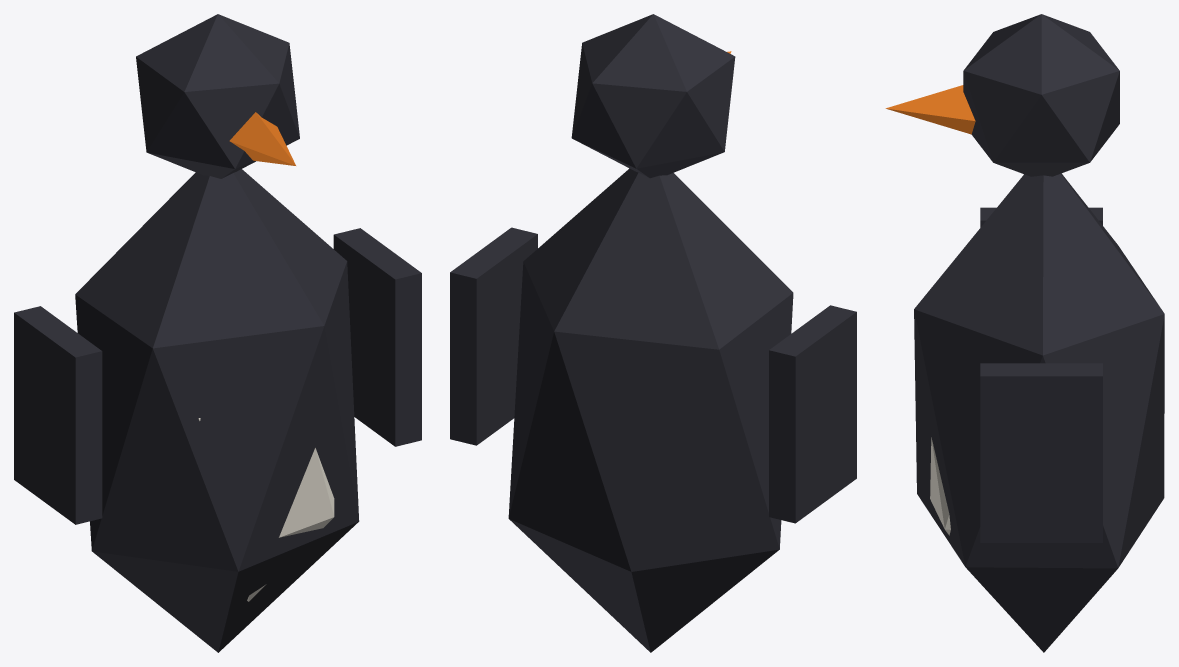
File: penguin.glb
3 views of the same model, side by side, from view 1: azimuth 30°, elevation 25°; view 2: azimuth 150°, elevation 25°; view 3: azimuth 270°, elevation 25° (orthographic).
Visible parts, largest first — view 1: penguin; view 2: penguin; view 3: penguin.
Part boxes in pixels (x1=…): penguin: x1=14, y1=14, x2=421, y2=652; penguin: x1=450, y1=14, x2=856, y2=652; penguin: x1=885, y1=14, x2=1164, y2=652.
Bounding box in the file's own units: 0.65 × 1.15 × 0.4557.
